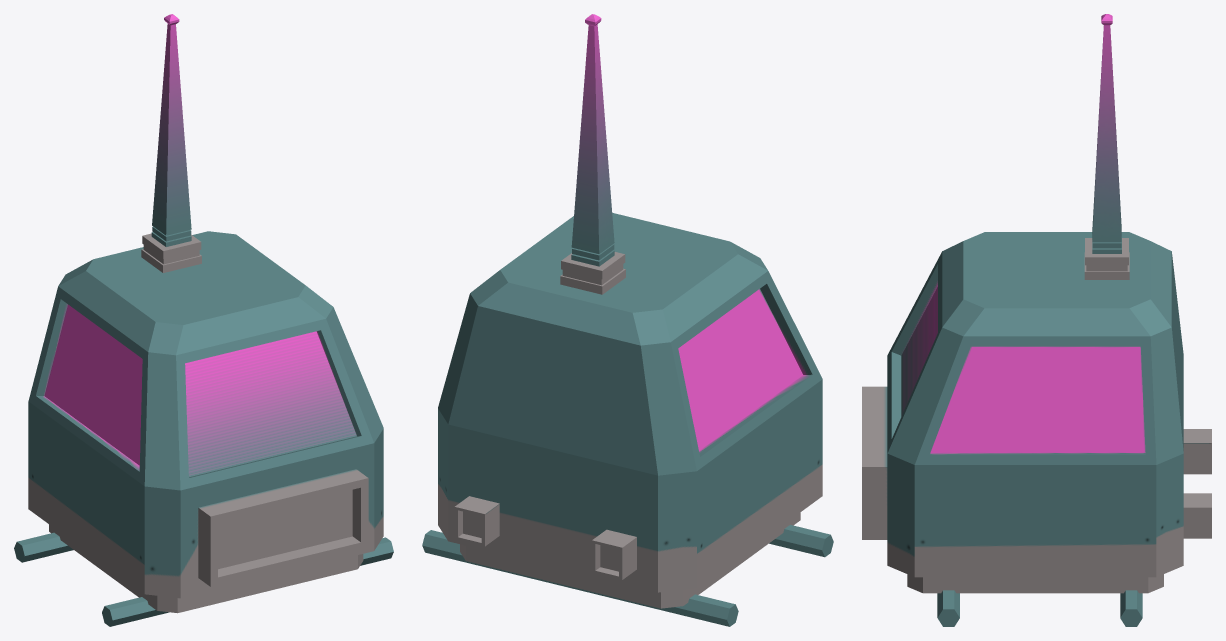
Rendered from 1_car.FBX.
3 views of the same model, side by side, from view 1: azimuth 30°, elevation 25°; view 2: azimuth 150°, elevation 25°; view 3: azimuth 270°, elevation 25° (orthographic). The views are drawn at different scales.
Parts seen in each view (by area): view 1: Box056; view 2: Box056; view 3: Box056.
Part boxes in pixels (<box>): Box056: <box>14,14,393,626</box>; Box056: <box>422,14,833,626</box>; Box056: <box>862,14,1211,626</box>.
Bounding box in the file's own units: 169 × 298 × 175.
